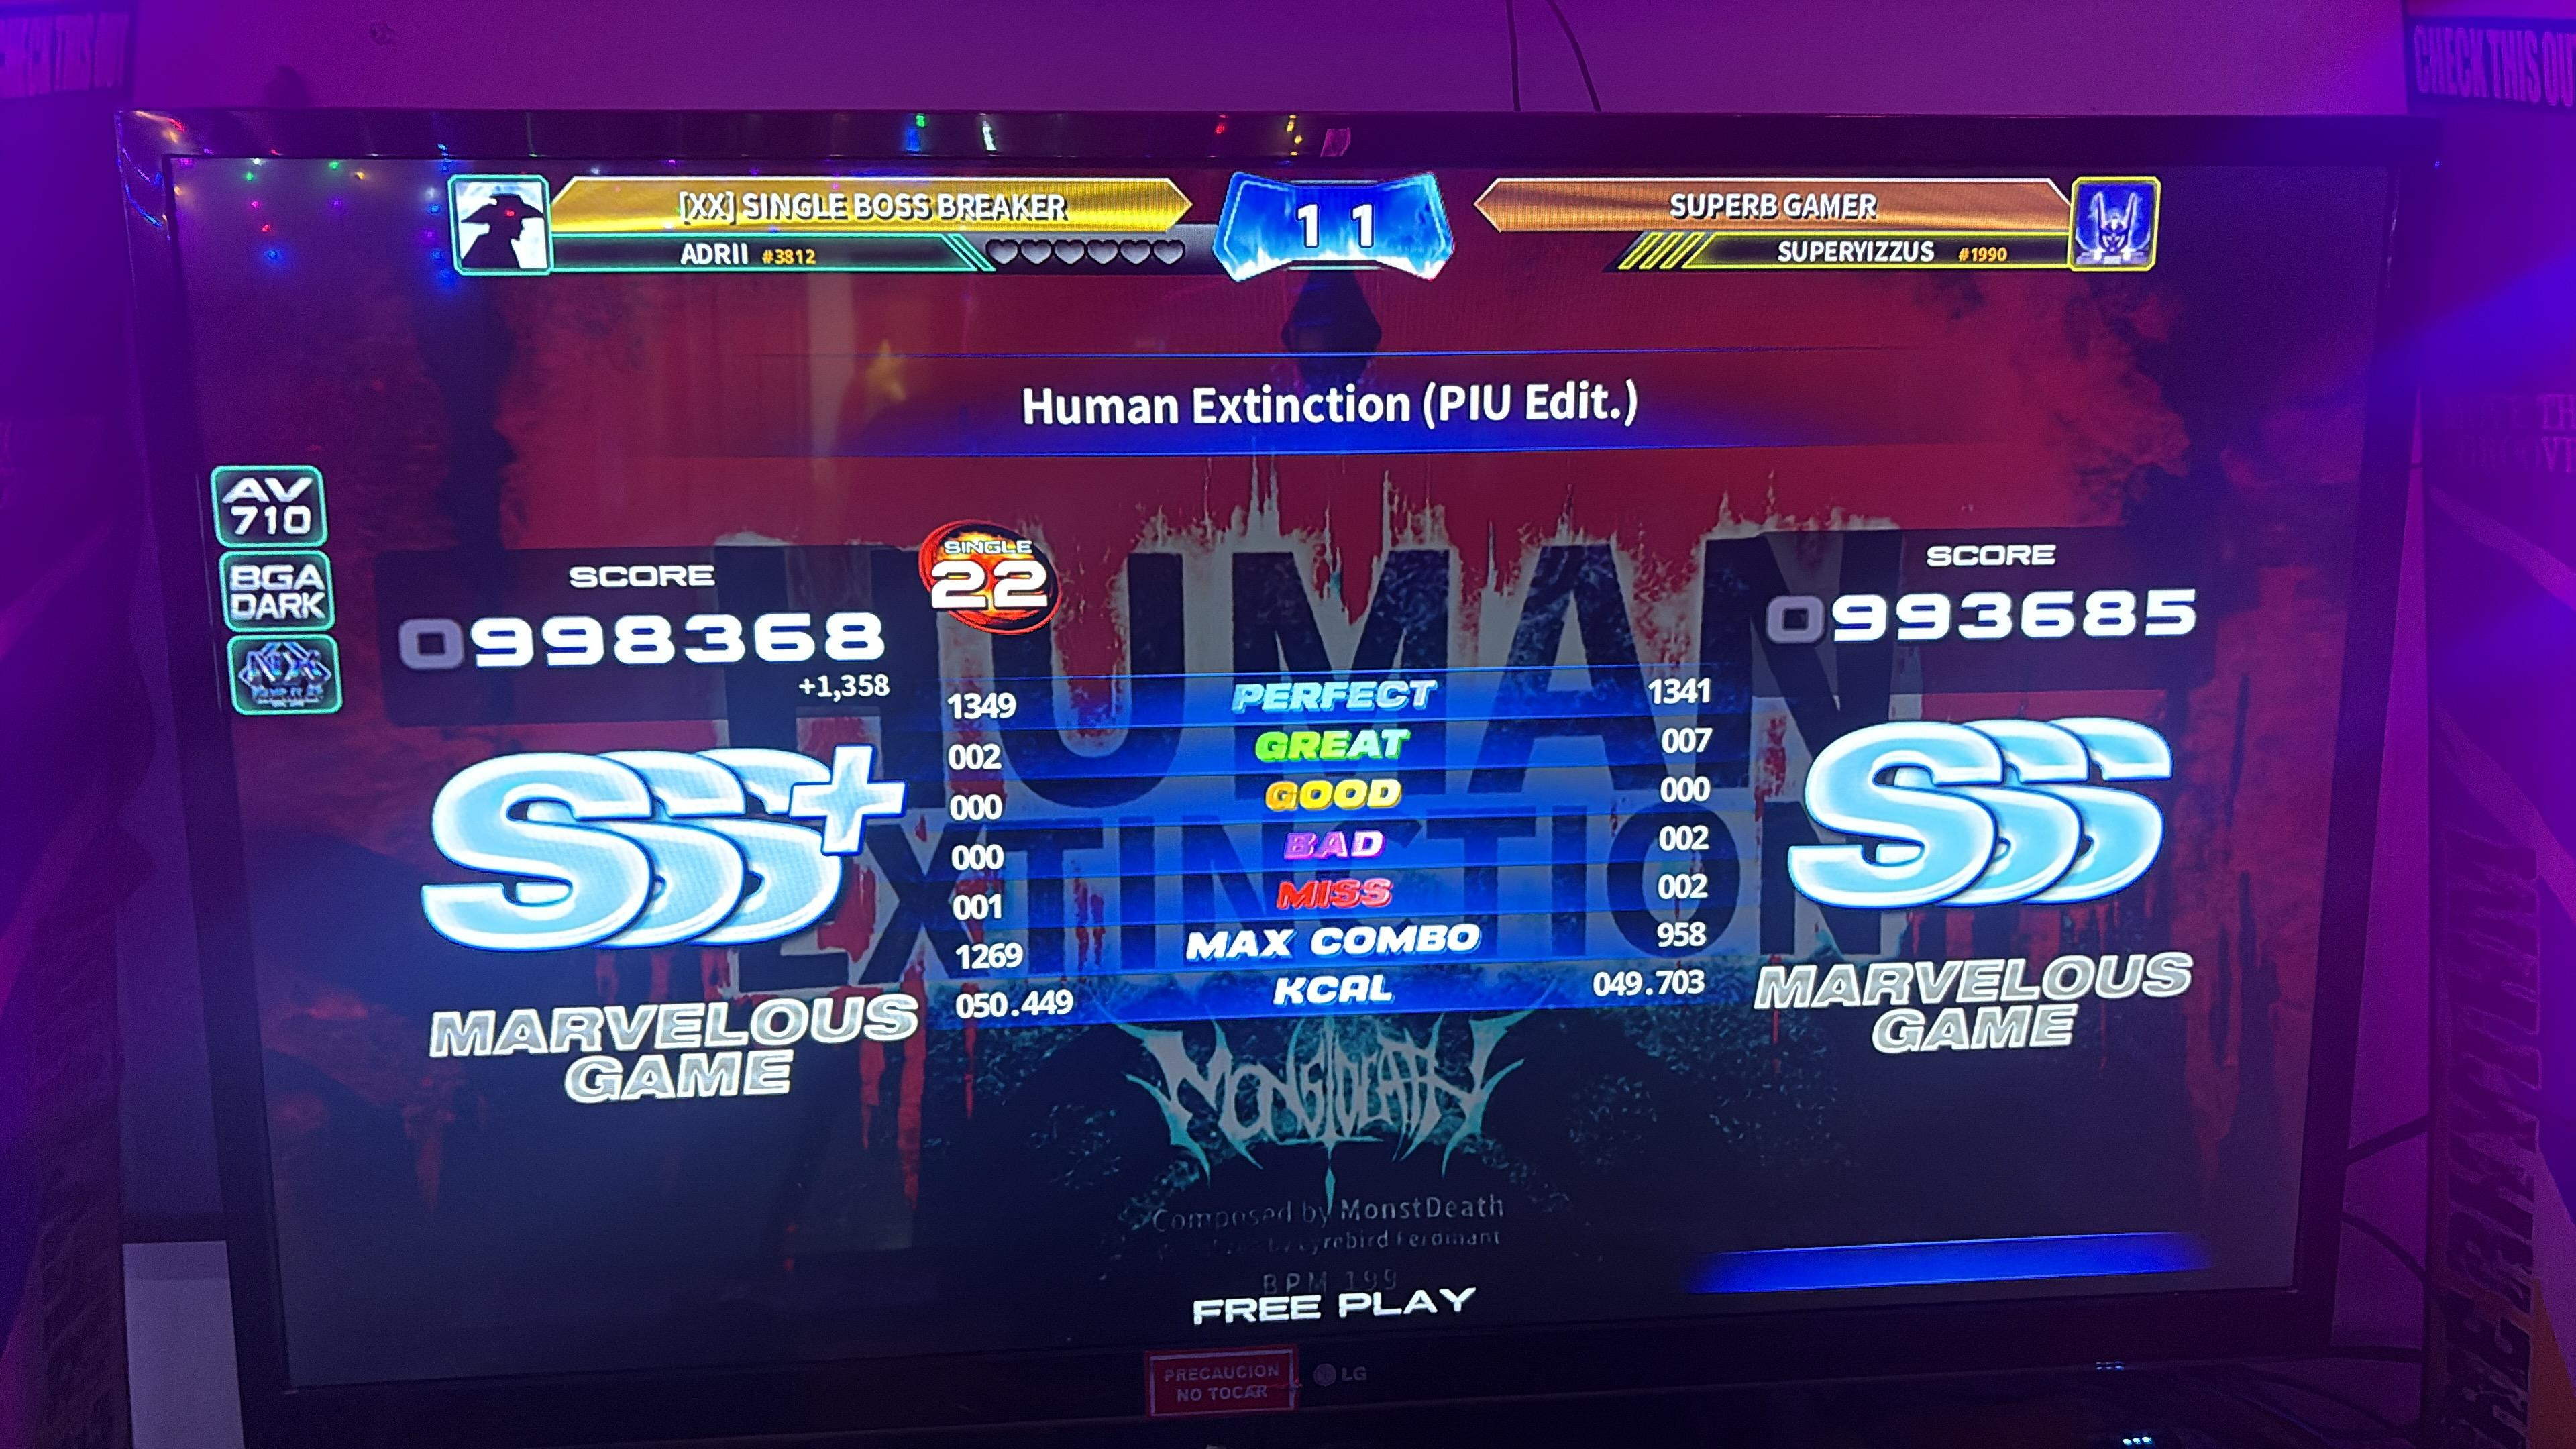difficulty: (929, 531, 1070, 628)
fullscore: (0, 103, 1941, 1449)
rank: (437, 740, 902, 936)
score: (398, 524, 895, 667)
song_name: (1031, 370, 1787, 479)
